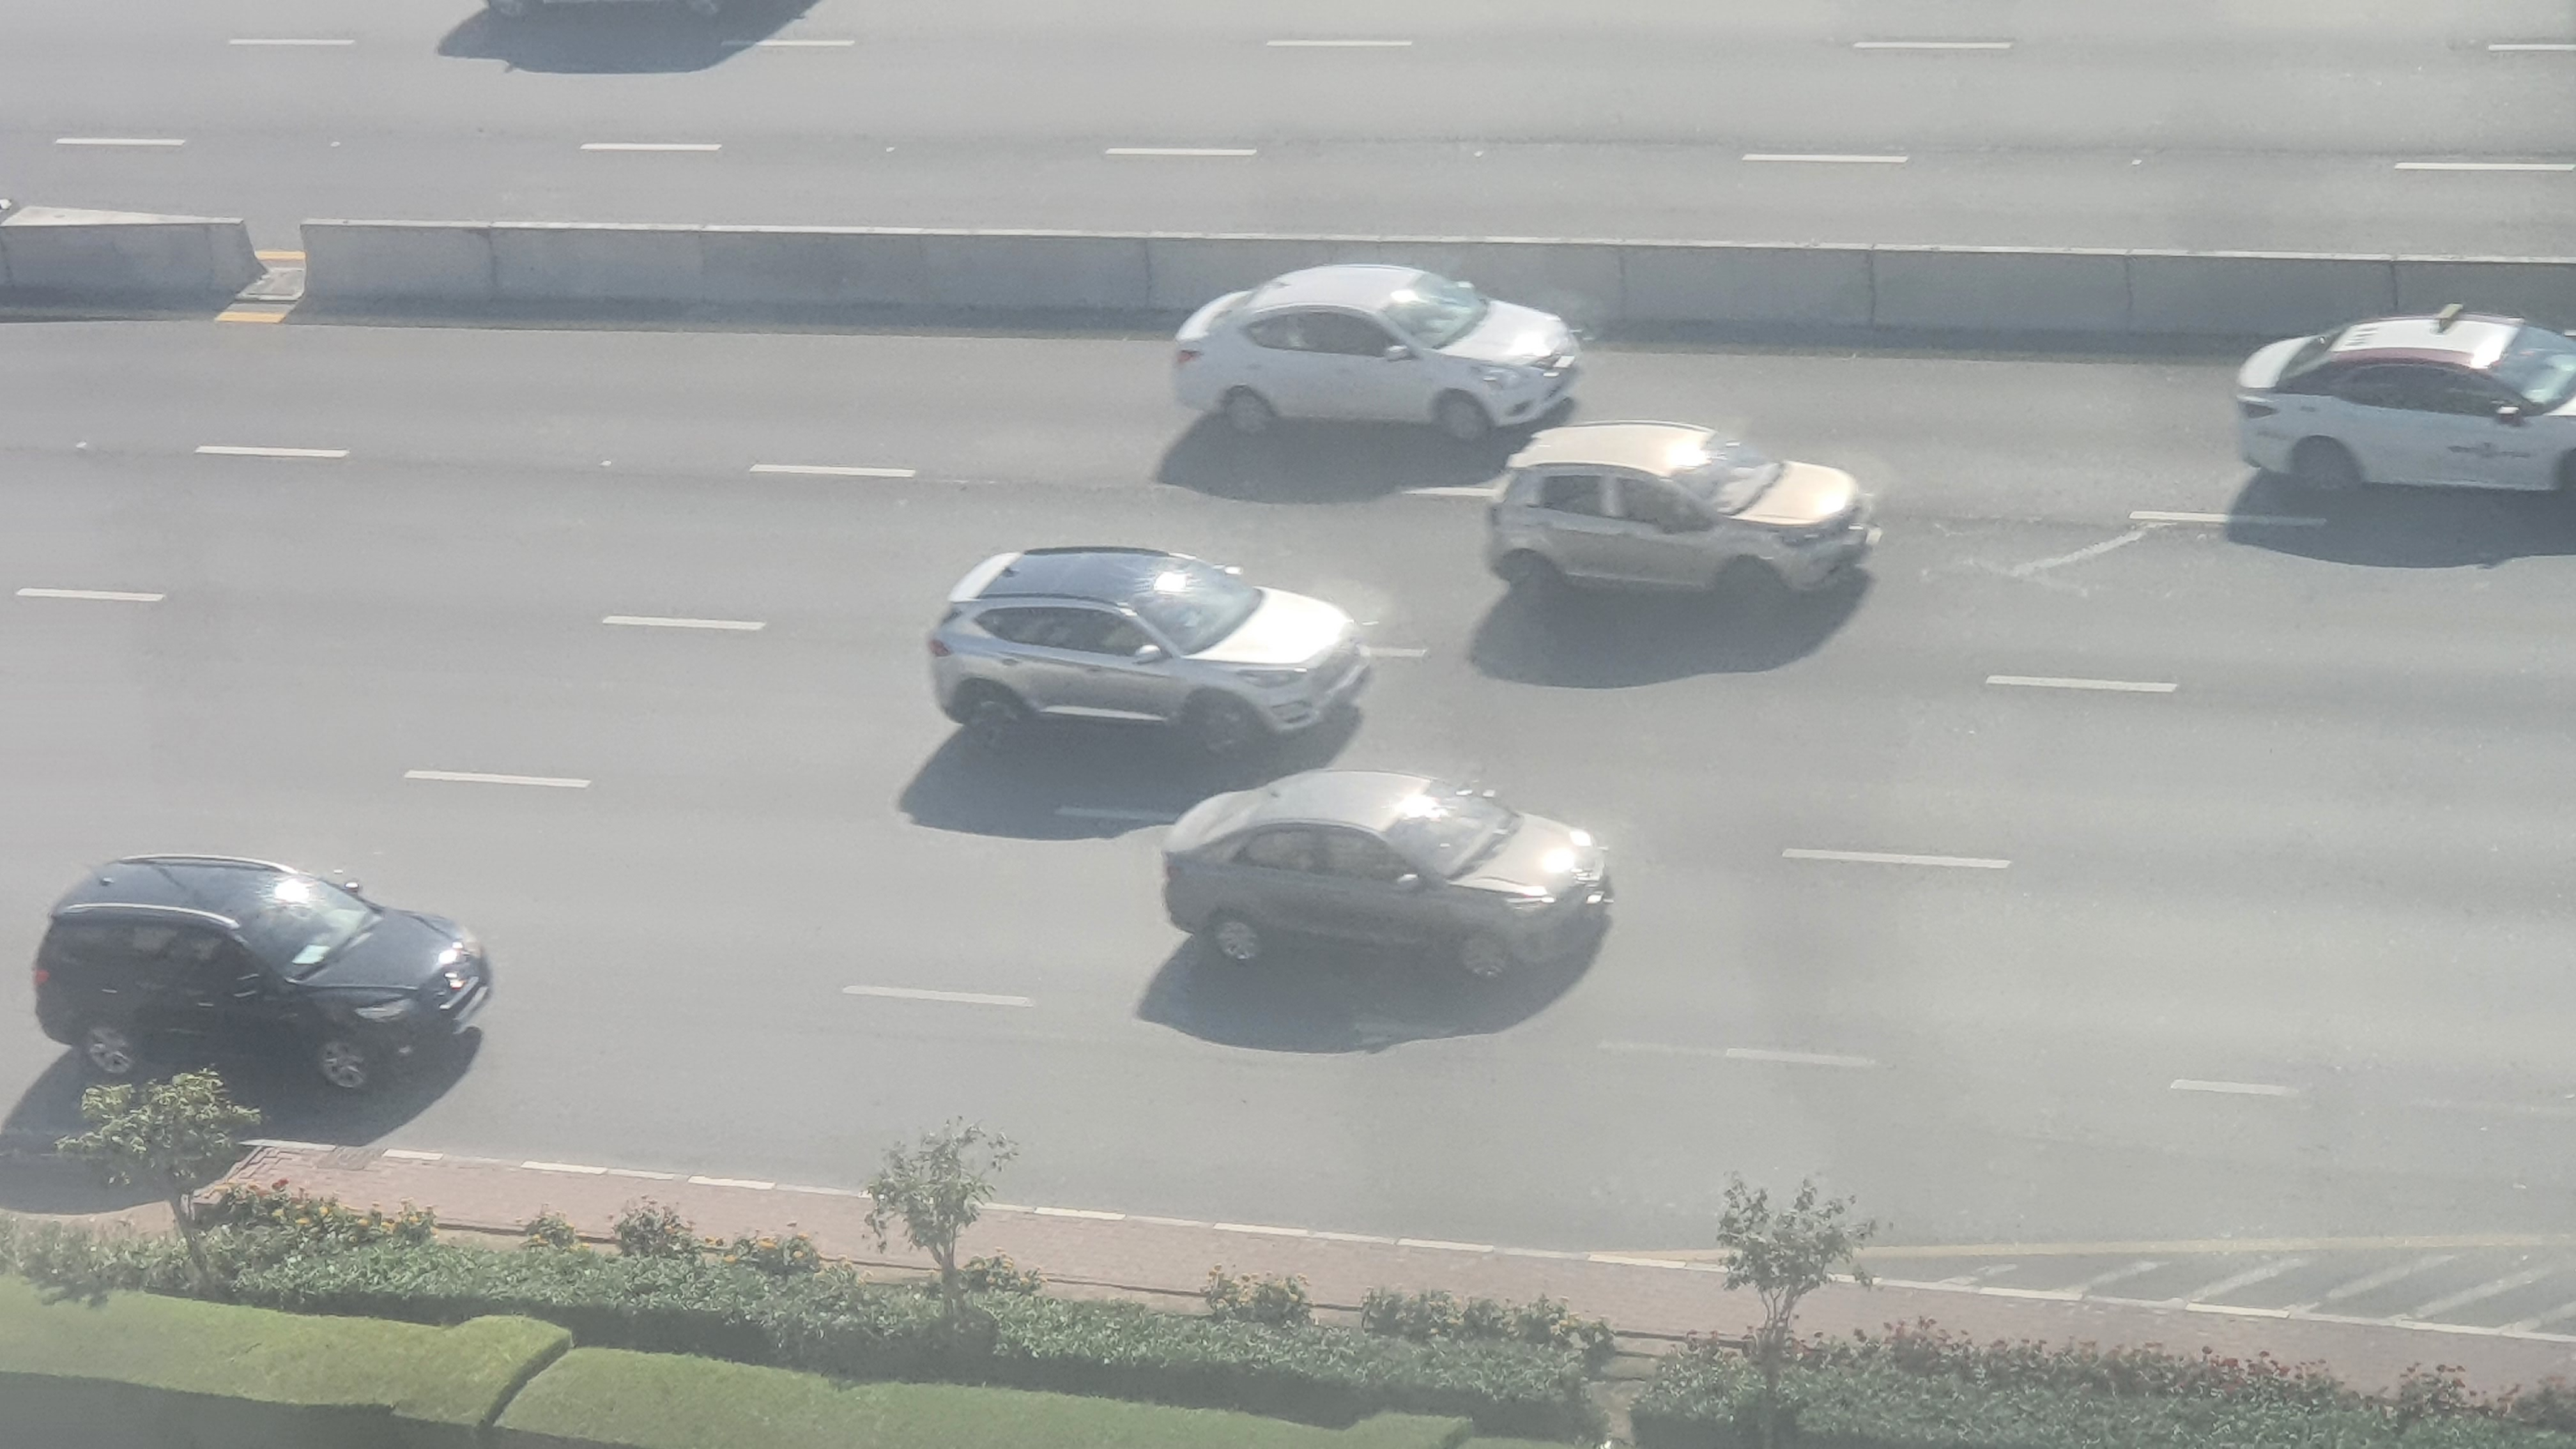NotSunroof: (1162, 766, 1612, 984), (1166, 260, 1583, 442), (1484, 430, 1881, 617)
Sunroof: (30, 853, 499, 1106), (924, 538, 1380, 763)
